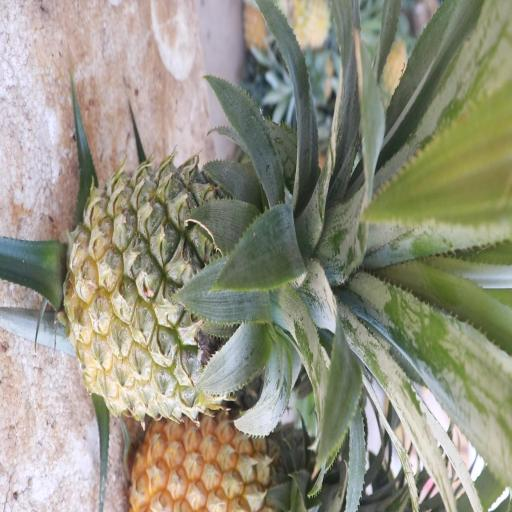------------------------------: (71, 164, 340, 412)
Pineapple - v8 v1: (136, 410, 328, 512)
